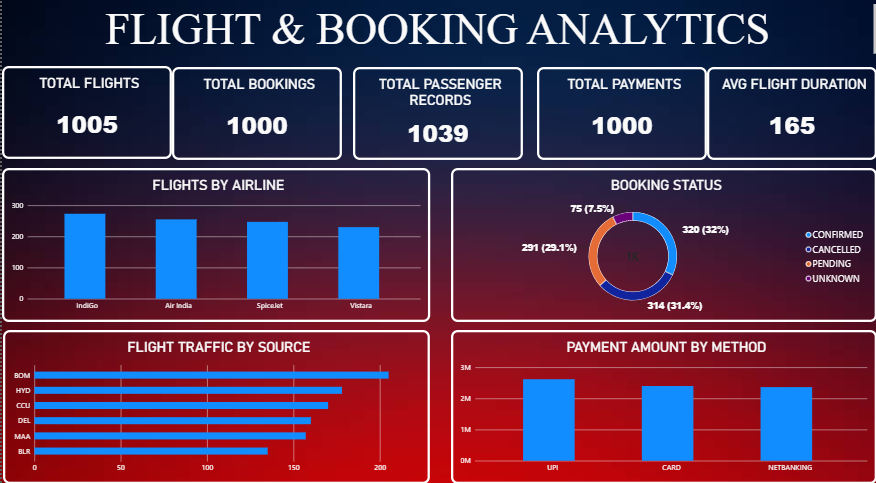

The page's visual inventory and layout, read from the dashboard file:
{"tool":"powerbi","page":{"name":"Page 1","canvas":[1920,1080],"ordinal":0},"visuals":[{"type":"card","title":"TOTAL FLIGHTS","fields":{"Values":["Sum(asg_airlines vw_overall_kpis.total_flights)"]},"box":[0,162.4,373.2,204.1],"z":0},{"type":"card","title":"TOTAL BOOKINGS","fields":{"Values":["Sum(asg_airlines vw_overall_kpis.total_bookings)"]},"box":[372.7,163.6,373,204.1],"z":1000},{"type":"card","title":"TOTAL PASSENGER RECORDS","fields":{"Values":["Sum(asg_airlines vw_overall_kpis.total_passenger_records)"]},"box":[769.6,163.6,373,204.3],"z":2000},{"type":"card","title":"TOTAL PAYMENTS","fields":{"Values":["Sum(asg_airlines vw_overall_kpis.total_payments)"]},"box":[1174.5,163.6,373,204],"z":3000},{"type":"card","title":"AVG FLIGHT DURATION","fields":{"Values":["Sum(asg_airlines vw_overall_kpis.average_flight_duration_minutes)"]},"box":[1547.3,163.6,373,204],"z":4000},{"type":"textbox","box":[0,26.3,1920.7,109.8],"z":5000},{"type":"clusteredColumnChart","title":"FLIGHTS BY AIRLINE","fields":{"Category":["asg_airlines vw_airline_distribution.airline"],"Y":["Sum(asg_airlines vw_airline_distribution.flight_count)"]},"box":[0,386.3,939.5,338],"z":6000},{"type":"donutChart","title":"BOOKING STATUS","fields":{"Category":["asg_airlines vw_booking_status.status"],"Y":["Sum(asg_airlines vw_booking_status.booking_count)"]},"box":[985.6,386.3,935.1,338],"z":7000},{"type":"barChart","title":"FLIGHT TRAFFIC BY SOURCE","fields":{"Category":["asg_airlines vw_route_traffic.source","asg_airlines vw_route_traffic.destination"],"Y":["Sum(asg_airlines vw_route_traffic.flight_count)"]},"box":[2.2,742,937.3,338],"z":8000},{"type":"clusteredColumnChart","title":"PAYMENT AMOUNT BY METHOD","fields":{"Category":["asg_airlines vw_payment_summary.payment_method"],"Y":["Sum(asg_airlines vw_payment_summary.total_amount)"]},"box":[985.6,742,935.1,338],"z":8001}]}

Visuals, with their boxes in screenshot pixels (x1, y1, x2, y2), scaled from the page's 1920x1080 canvas onto the 876x483 screenshot:
"TOTAL FLIGHTS" card: <region>0, 73, 170, 164</region>
"TOTAL BOOKINGS" card: <region>170, 73, 340, 164</region>
"TOTAL PASSENGER RECORDS" card: <region>351, 73, 521, 165</region>
"TOTAL PAYMENTS" card: <region>536, 73, 706, 164</region>
"AVG FLIGHT DURATION" card: <region>706, 73, 875, 164</region>
textbox: <region>0, 12, 875, 61</region>
"FLIGHTS BY AIRLINE" clusteredColumnChart: <region>0, 173, 429, 324</region>
"BOOKING STATUS" donutChart: <region>450, 173, 875, 324</region>
"FLIGHT TRAFFIC BY SOURCE" barChart: <region>1, 332, 429, 482</region>
"PAYMENT AMOUNT BY METHOD" clusteredColumnChart: <region>450, 332, 875, 482</region>
